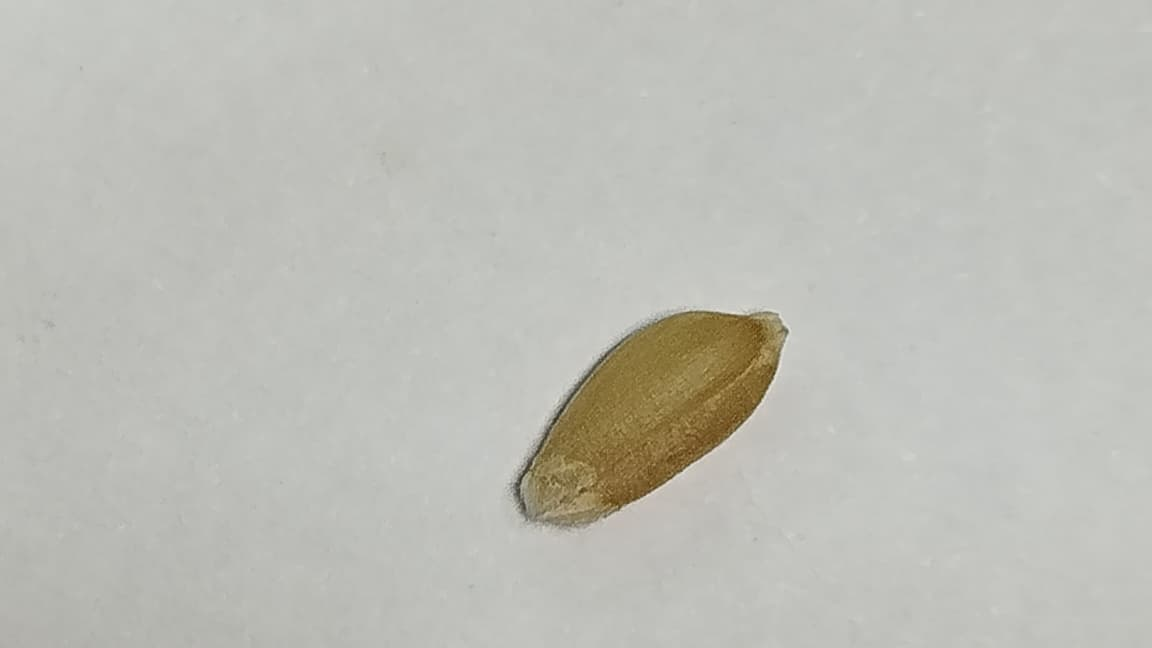healthy: (520, 311, 786, 523)
